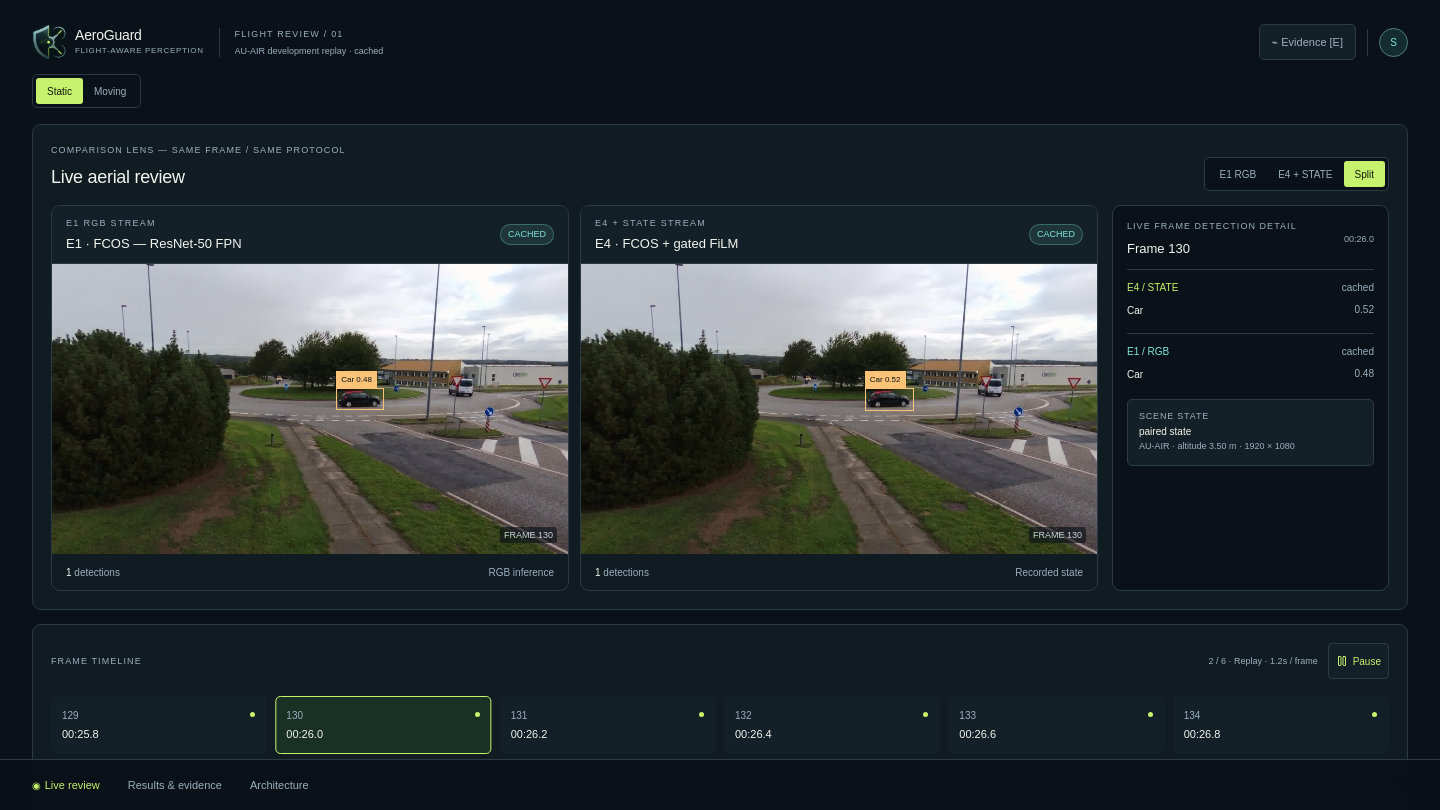
Test: real replay workflow › defaults to real AU-AIR replay when API offers only fixtures or single-frame runs, preserving the chooser
Expected: the button with aria-label "Pause replay" is shown, [1328,643,1389,679]
Expected: the heading "Frame 130" is shown, [1127,241,1190,256]
Click the button with aria-label "Choose recording" at (301, 42), box [219,28,383,56]
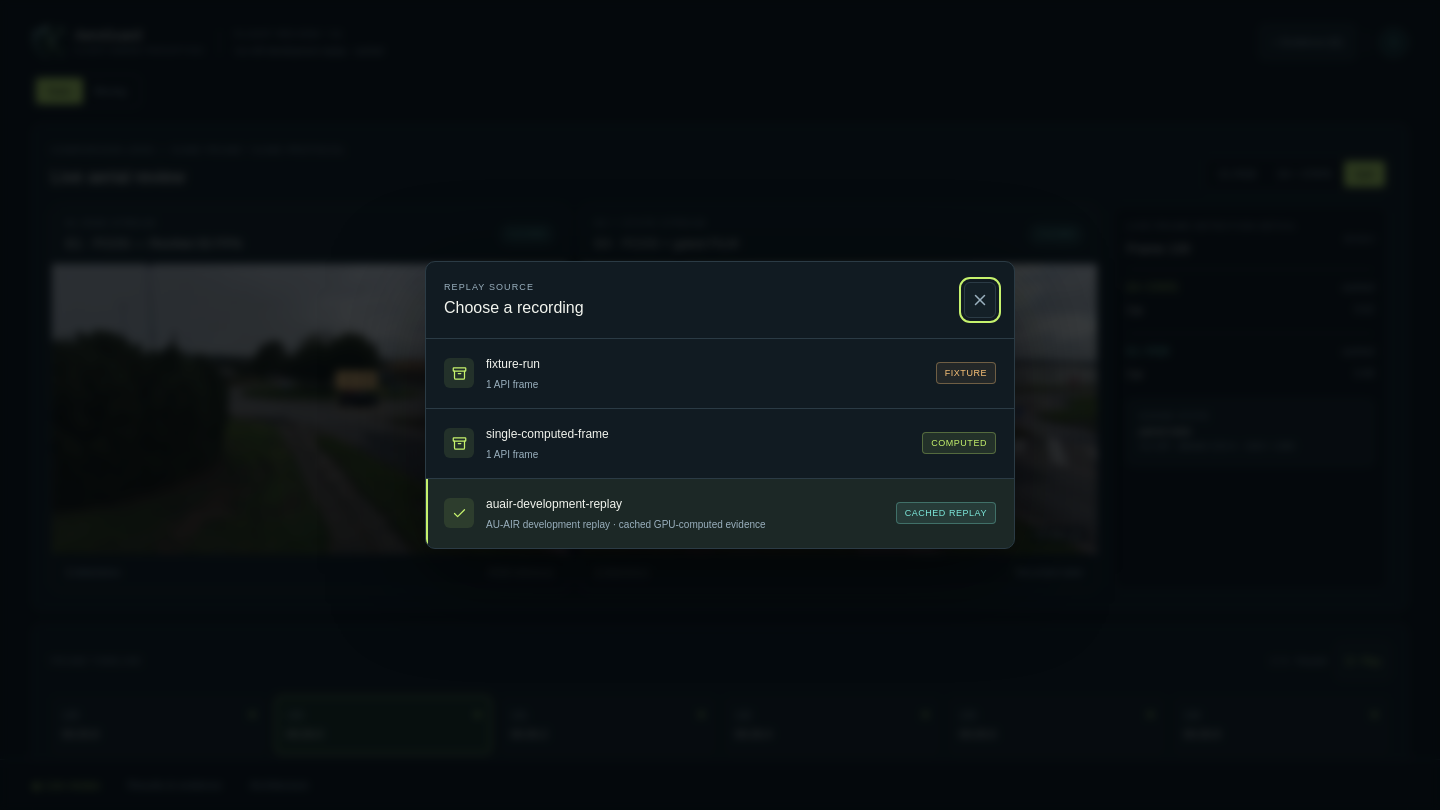
Expected: the text "fixture-run" is shown, [486,357,540,371]
Expected: the text "single-computed-frame" is shown, [486,427,609,441]
Press Tab in the button named "Close recording chooser", box [964,282,996,318]
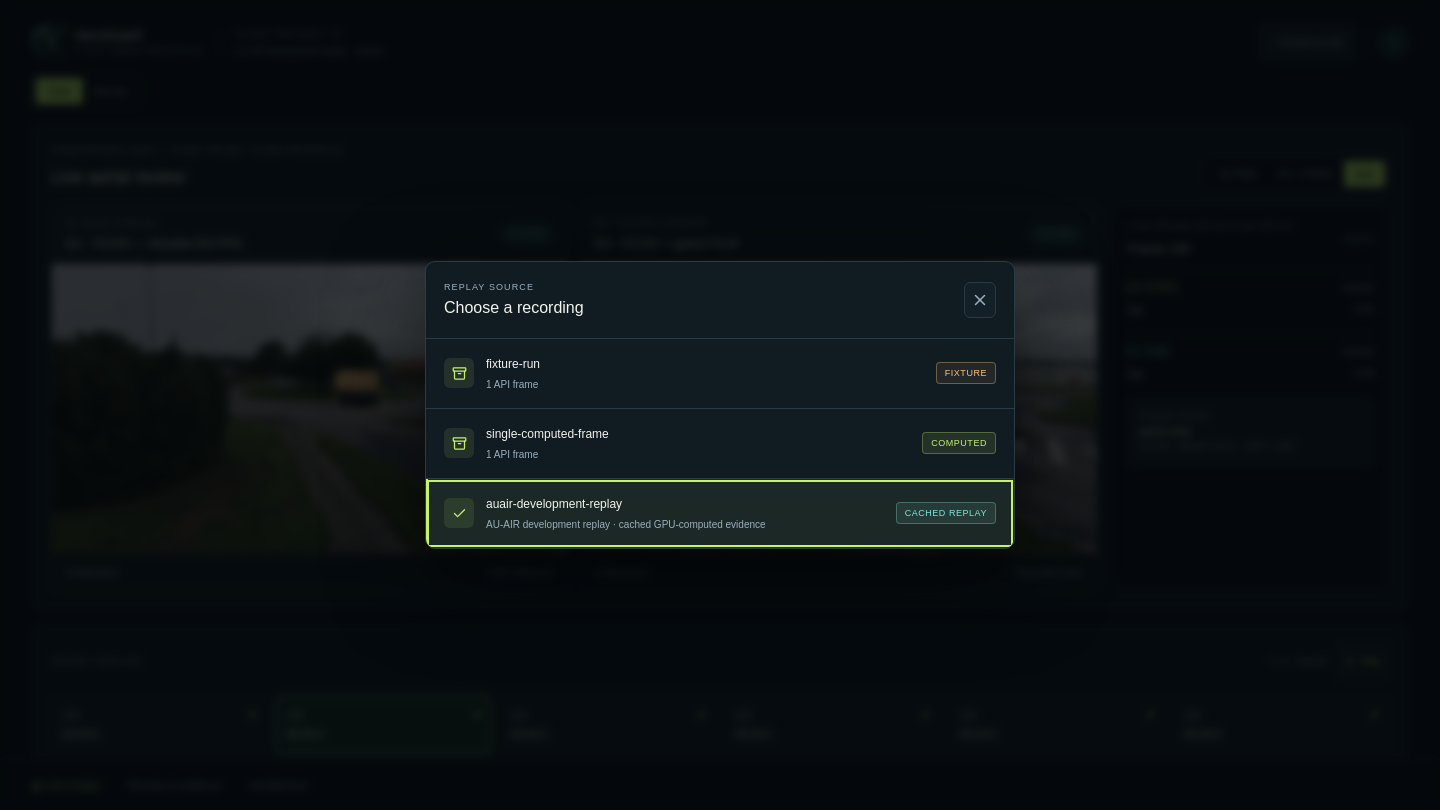
Press Escape in the button that starts with "auair-development-replay", box [426,479,1014,548]
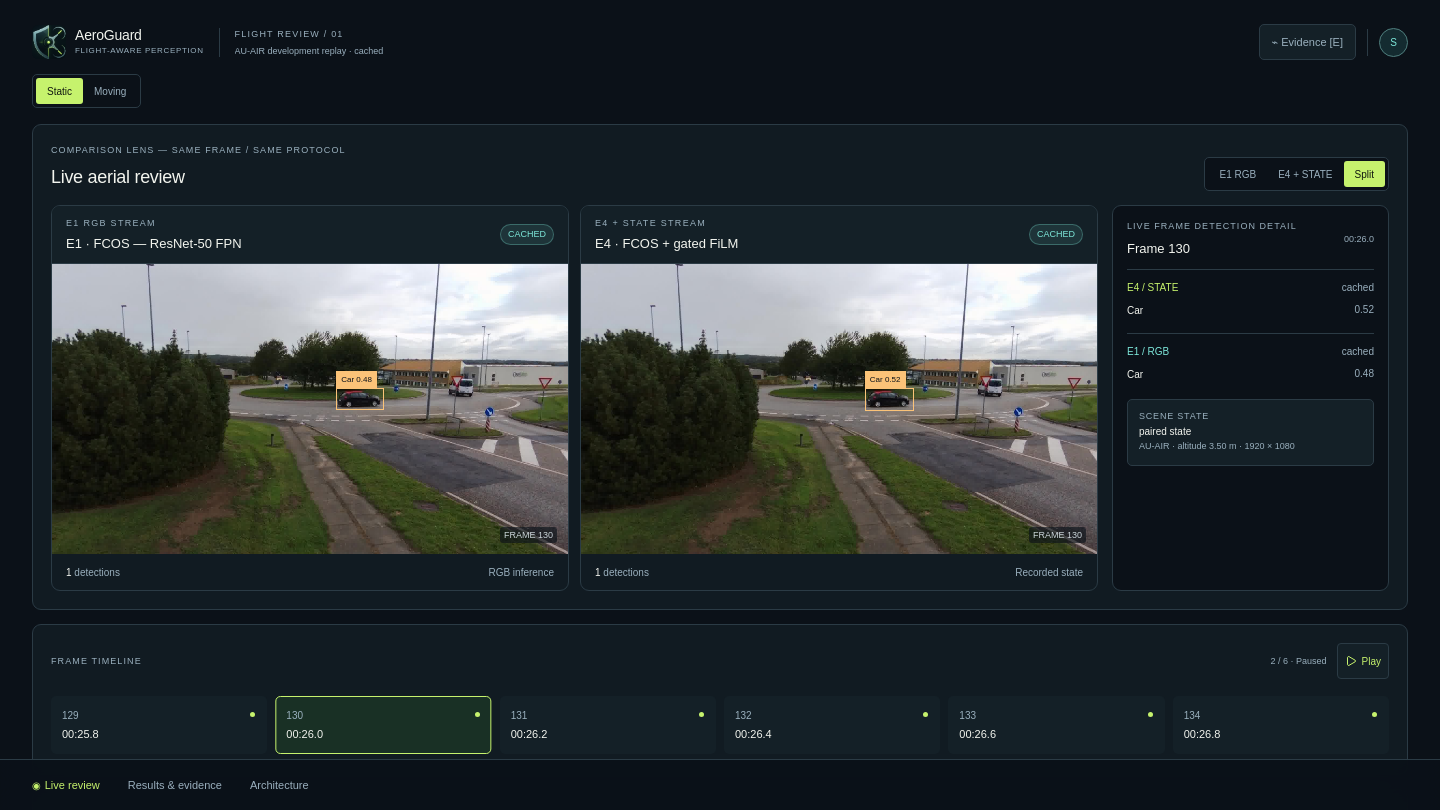
Expected: the dialog is gone
